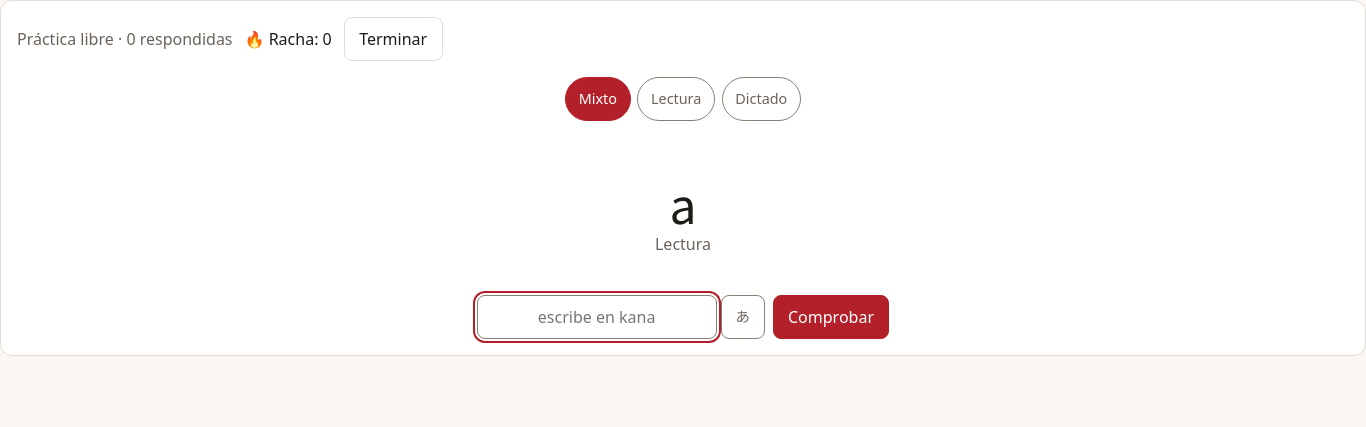
it: kana-write modes › free practice has mode chips; Dictado without a voice falls back to Lectura with a notice
This screenshot has width=1366, height=427.
Click the button "Dictado".
click(761, 99)  # box [722,77,801,121]
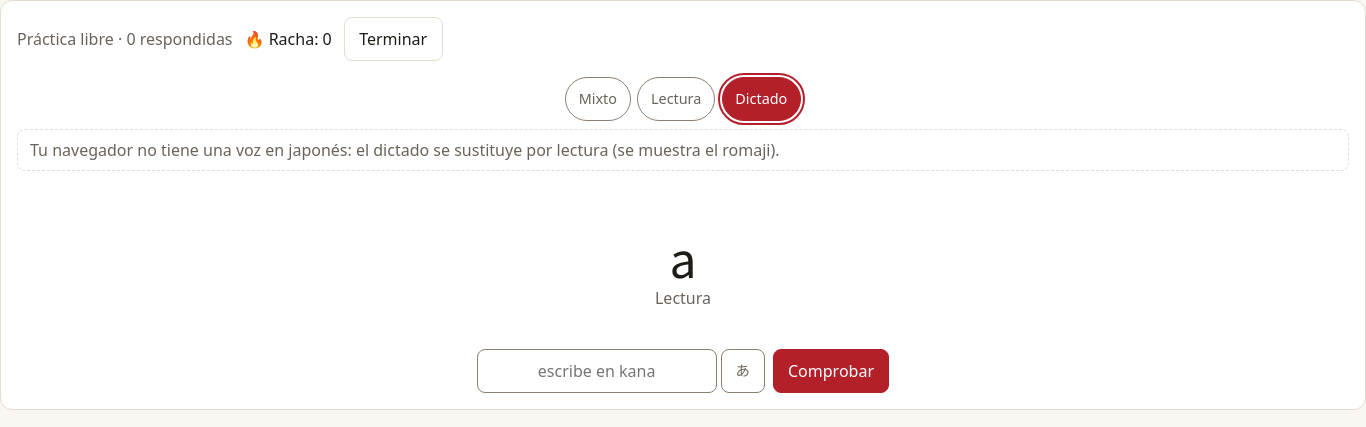
Check: the text with test id "romaji" reads "a", box [670,222,696,292]
Check: the text with test id "dictado-fallback" is shown, box [17,129,1349,171]
